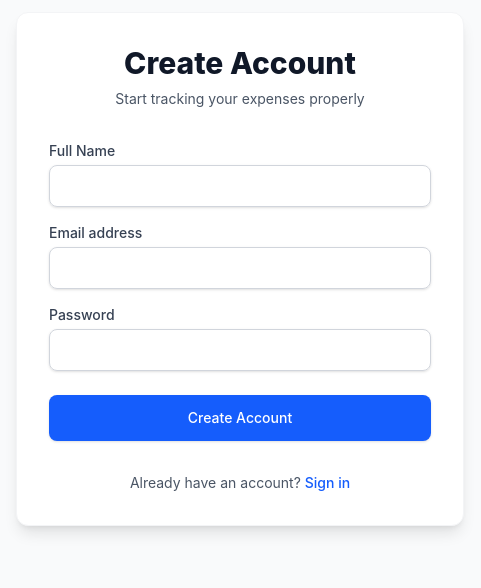
Test: Register Component › shows error for name too short
In the field labelled "Full Name": (240, 186) 49,165 -> 431,207, type "A"
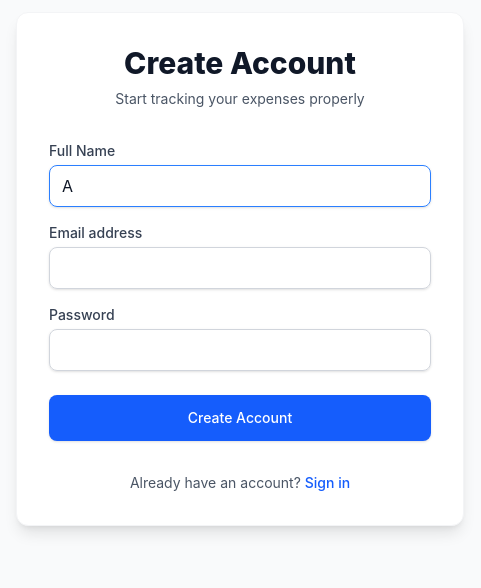
Click the button "Create Account": (240, 418) 49,395 -> 431,441
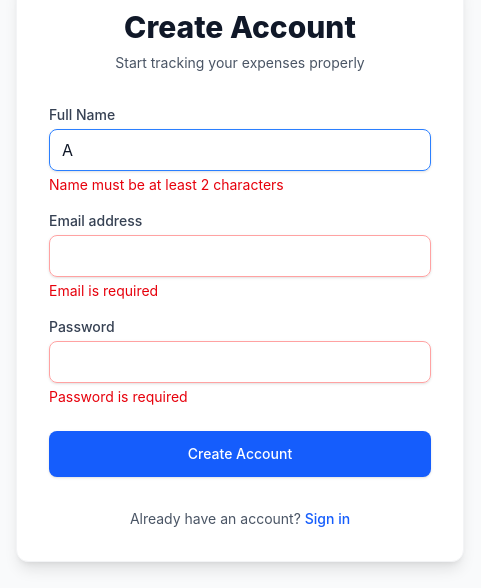
Now the text "Name must be at least 2 characters" is shown, box 49,176 -> 284,193
